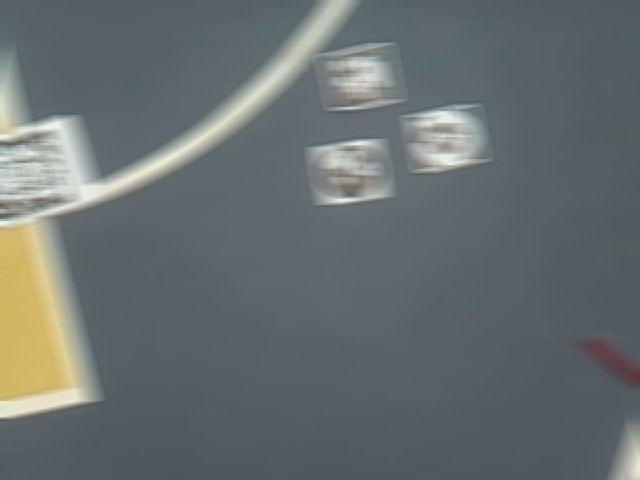landing-zone: (401, 103, 493, 172)
